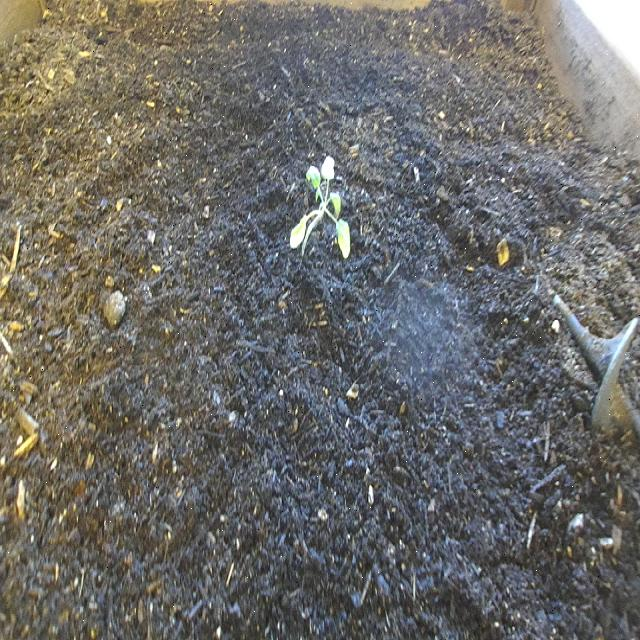Healthy: (286, 152, 355, 270)
